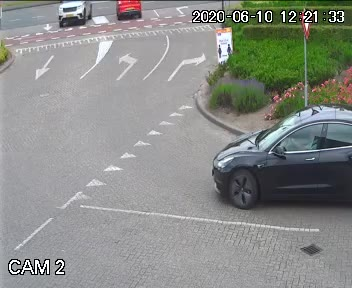car: (208, 90, 352, 212), (55, 0, 94, 33), (111, 0, 143, 24)
